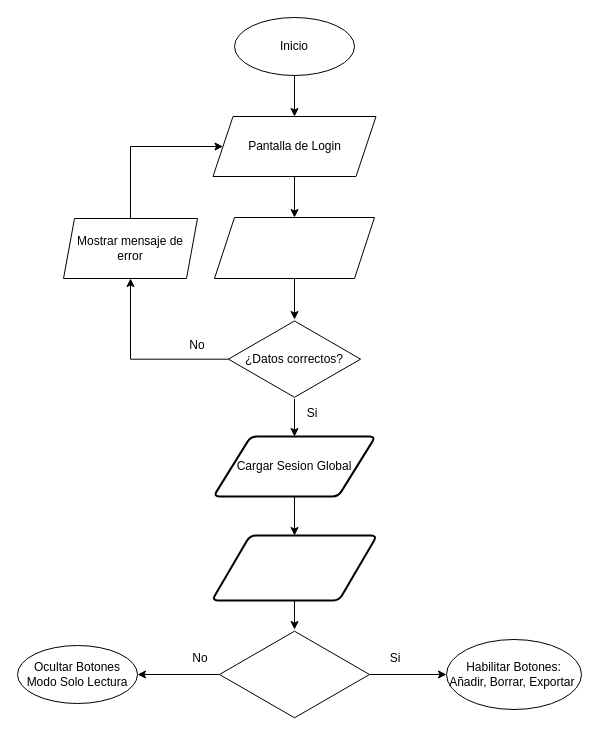
This 599x737 diagram has some shape labels left out. Here are the shapes that lost their labels. From the top down, the centre of each, then its label:
At (294,247): "Validar Credenciales en BBDD".
At (294,567): "Pantalla Principal Catálogo".
At (294,674): "¿Es Administrador?".
